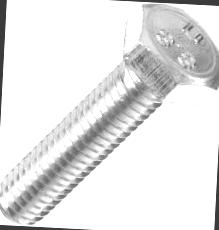screw: (119, 1, 219, 106)
